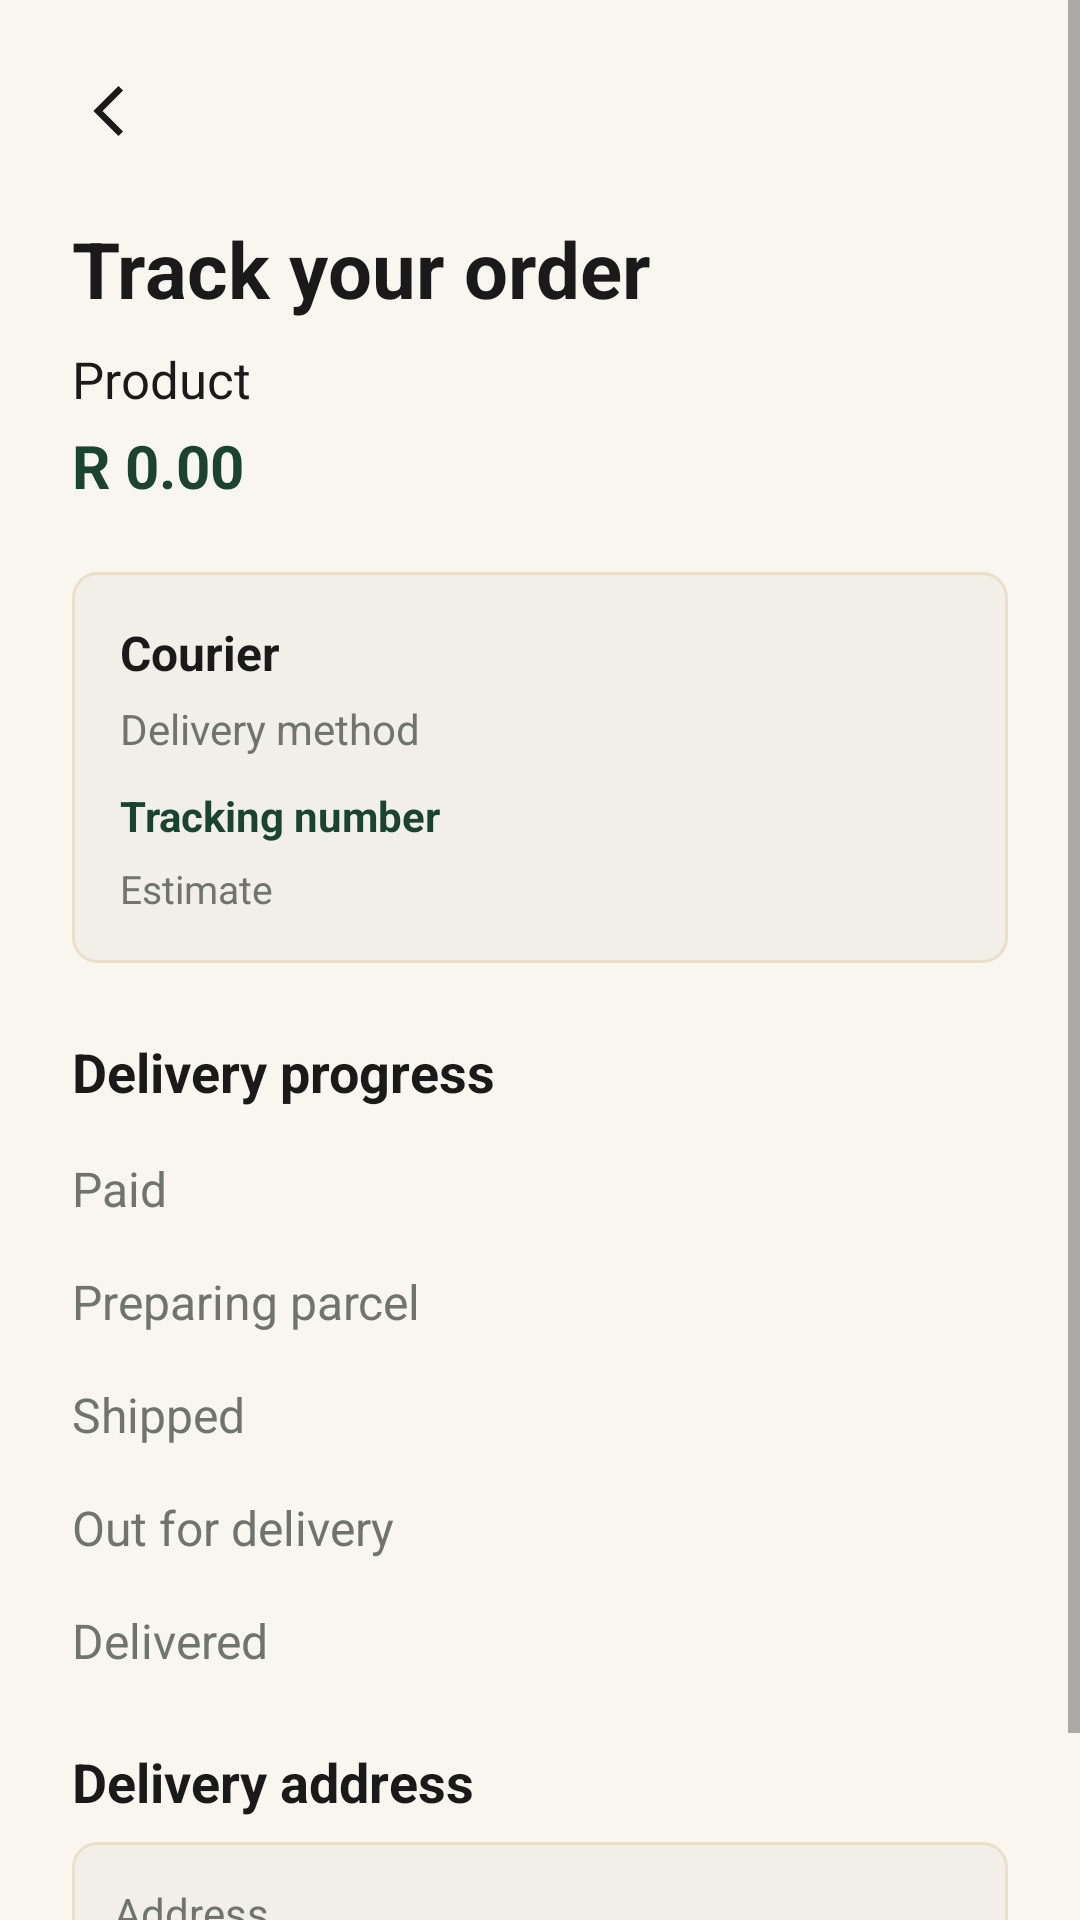

Named icons in this screenshot (1080x1920) and their centers, [x,y]:
Back: [108,111]
